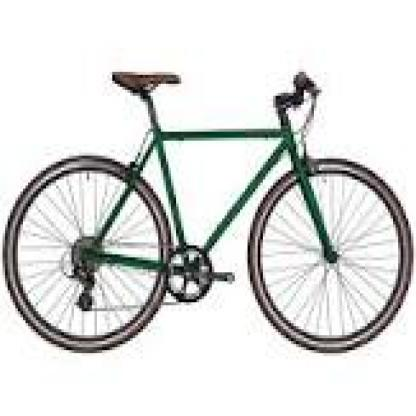Bike: (0, 68, 412, 355)
